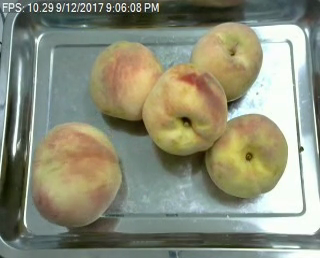Peach: (30, 122, 122, 229), (140, 62, 229, 156), (205, 113, 288, 198), (188, 21, 262, 104), (90, 39, 162, 122)
